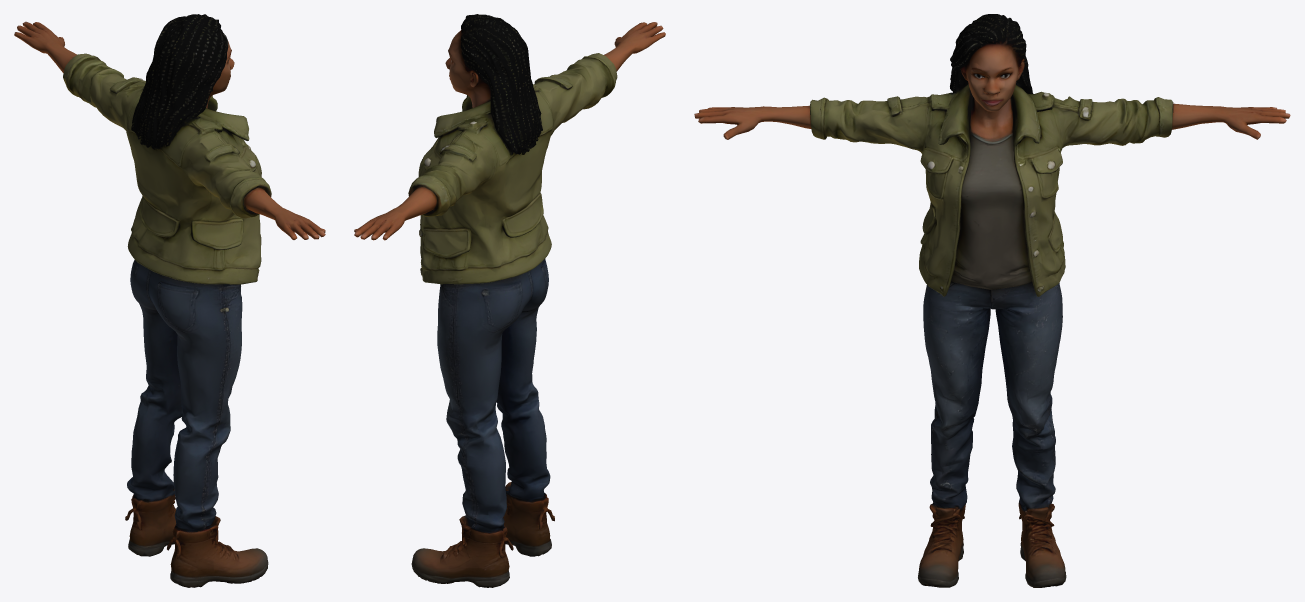
The model's file is survivor_maya_hd.v3.bak.glb.
3 renders of one model, left to right at view 1: azimuth 30°, elevation 25°; view 2: azimuth 150°, elevation 25°; view 3: azimuth 270°, elevation 25°, orthographic.
Parts seen in each view (by area): view 1: node_a0b1323e-79ac-43da-a9c2-65db5d31036d; view 2: node_a0b1323e-79ac-43da-a9c2-65db5d31036d; view 3: node_a0b1323e-79ac-43da-a9c2-65db5d31036d.
Part boxes in pixels (x1=…): node_a0b1323e-79ac-43da-a9c2-65db5d31036d: x1=14, y1=14, x2=325, y2=587; node_a0b1323e-79ac-43da-a9c2-65db5d31036d: x1=354, y1=14, x2=665, y2=587; node_a0b1323e-79ac-43da-a9c2-65db5d31036d: x1=694, y1=14, x2=1290, y2=587.
Size of the model in its own units: 0.1988 by 1 by 0.972.
Materials: 1 (1 with a texture image).
